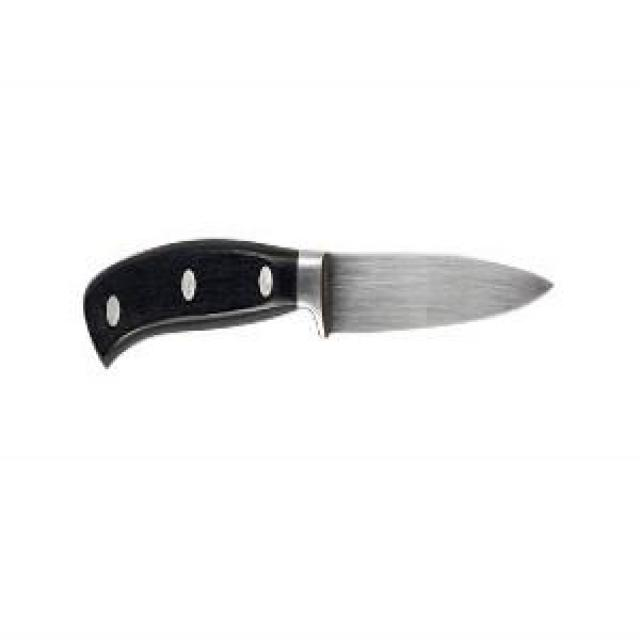knife: (79, 237, 555, 369)
